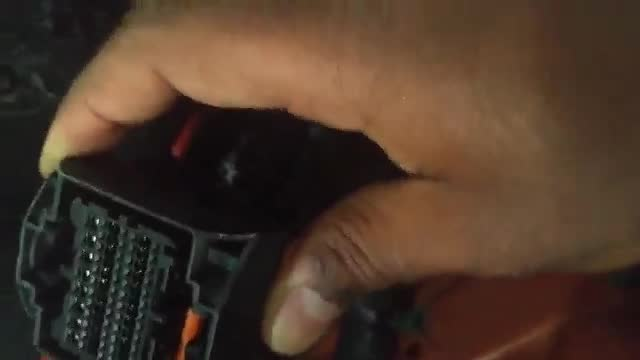connector: (16, 160, 253, 360)
